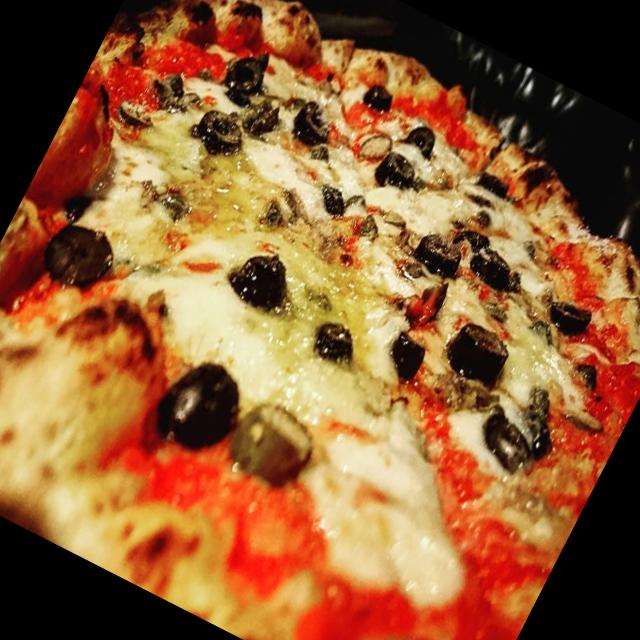black_olives: (138, 346, 256, 472), (222, 388, 326, 496), (32, 209, 122, 303), (441, 312, 521, 391), (224, 244, 298, 322), (469, 402, 540, 473), (509, 389, 575, 464), (374, 324, 440, 393), (189, 99, 253, 163), (462, 239, 524, 303), (214, 43, 274, 108), (282, 92, 343, 154), (410, 219, 470, 277), (542, 290, 602, 347), (304, 315, 362, 372), (368, 143, 422, 201), (110, 92, 162, 144), (394, 117, 444, 170), (260, 180, 306, 236), (238, 88, 285, 142), (448, 211, 500, 259), (466, 164, 518, 210), (360, 77, 406, 121), (155, 65, 199, 108), (316, 179, 354, 222), (381, 206, 410, 235)
pizza: (0, 0, 640, 640)
